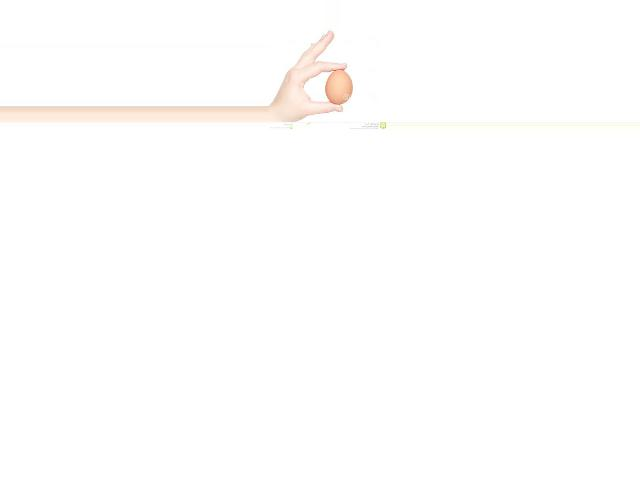egg: (324, 69, 352, 105)
